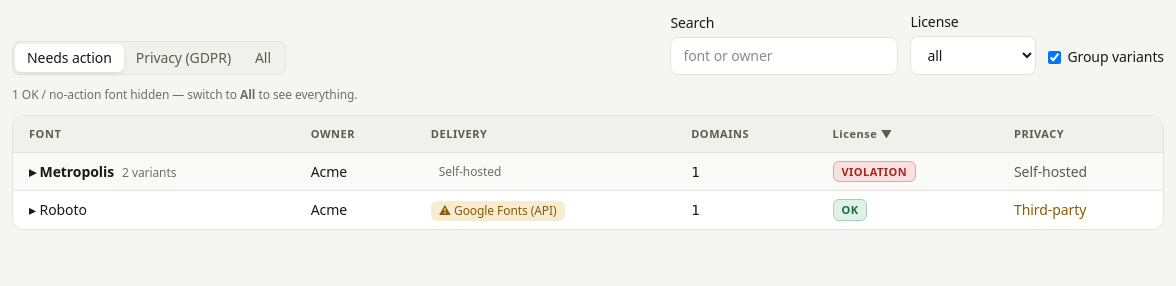
it: FindingsTable › can list variants individually instead of grouped
The width and height of the screenshot is (1176, 286).
Click the checkbox labelled "Group variants" at (1055, 57), box [1048,50,1061,64]
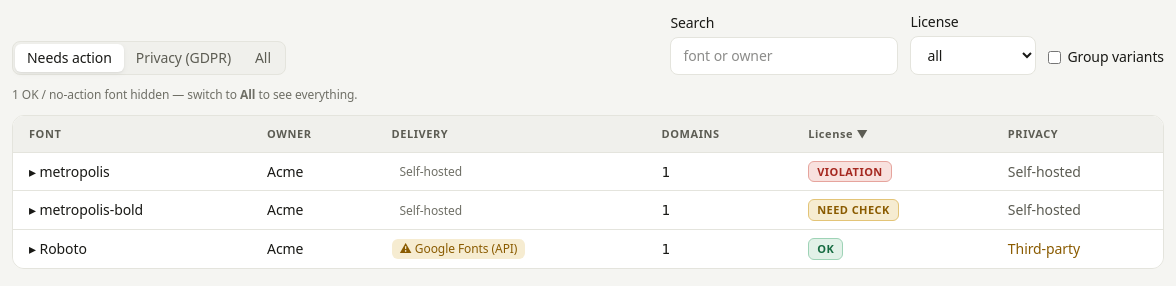
Expected: the button "▸ metropolis" is shown, [29,162,110,182]
Expected: the button "▸ metropolis-bold" is shown, [29,200,143,220]
Expected: the button "2 variants" is gone
